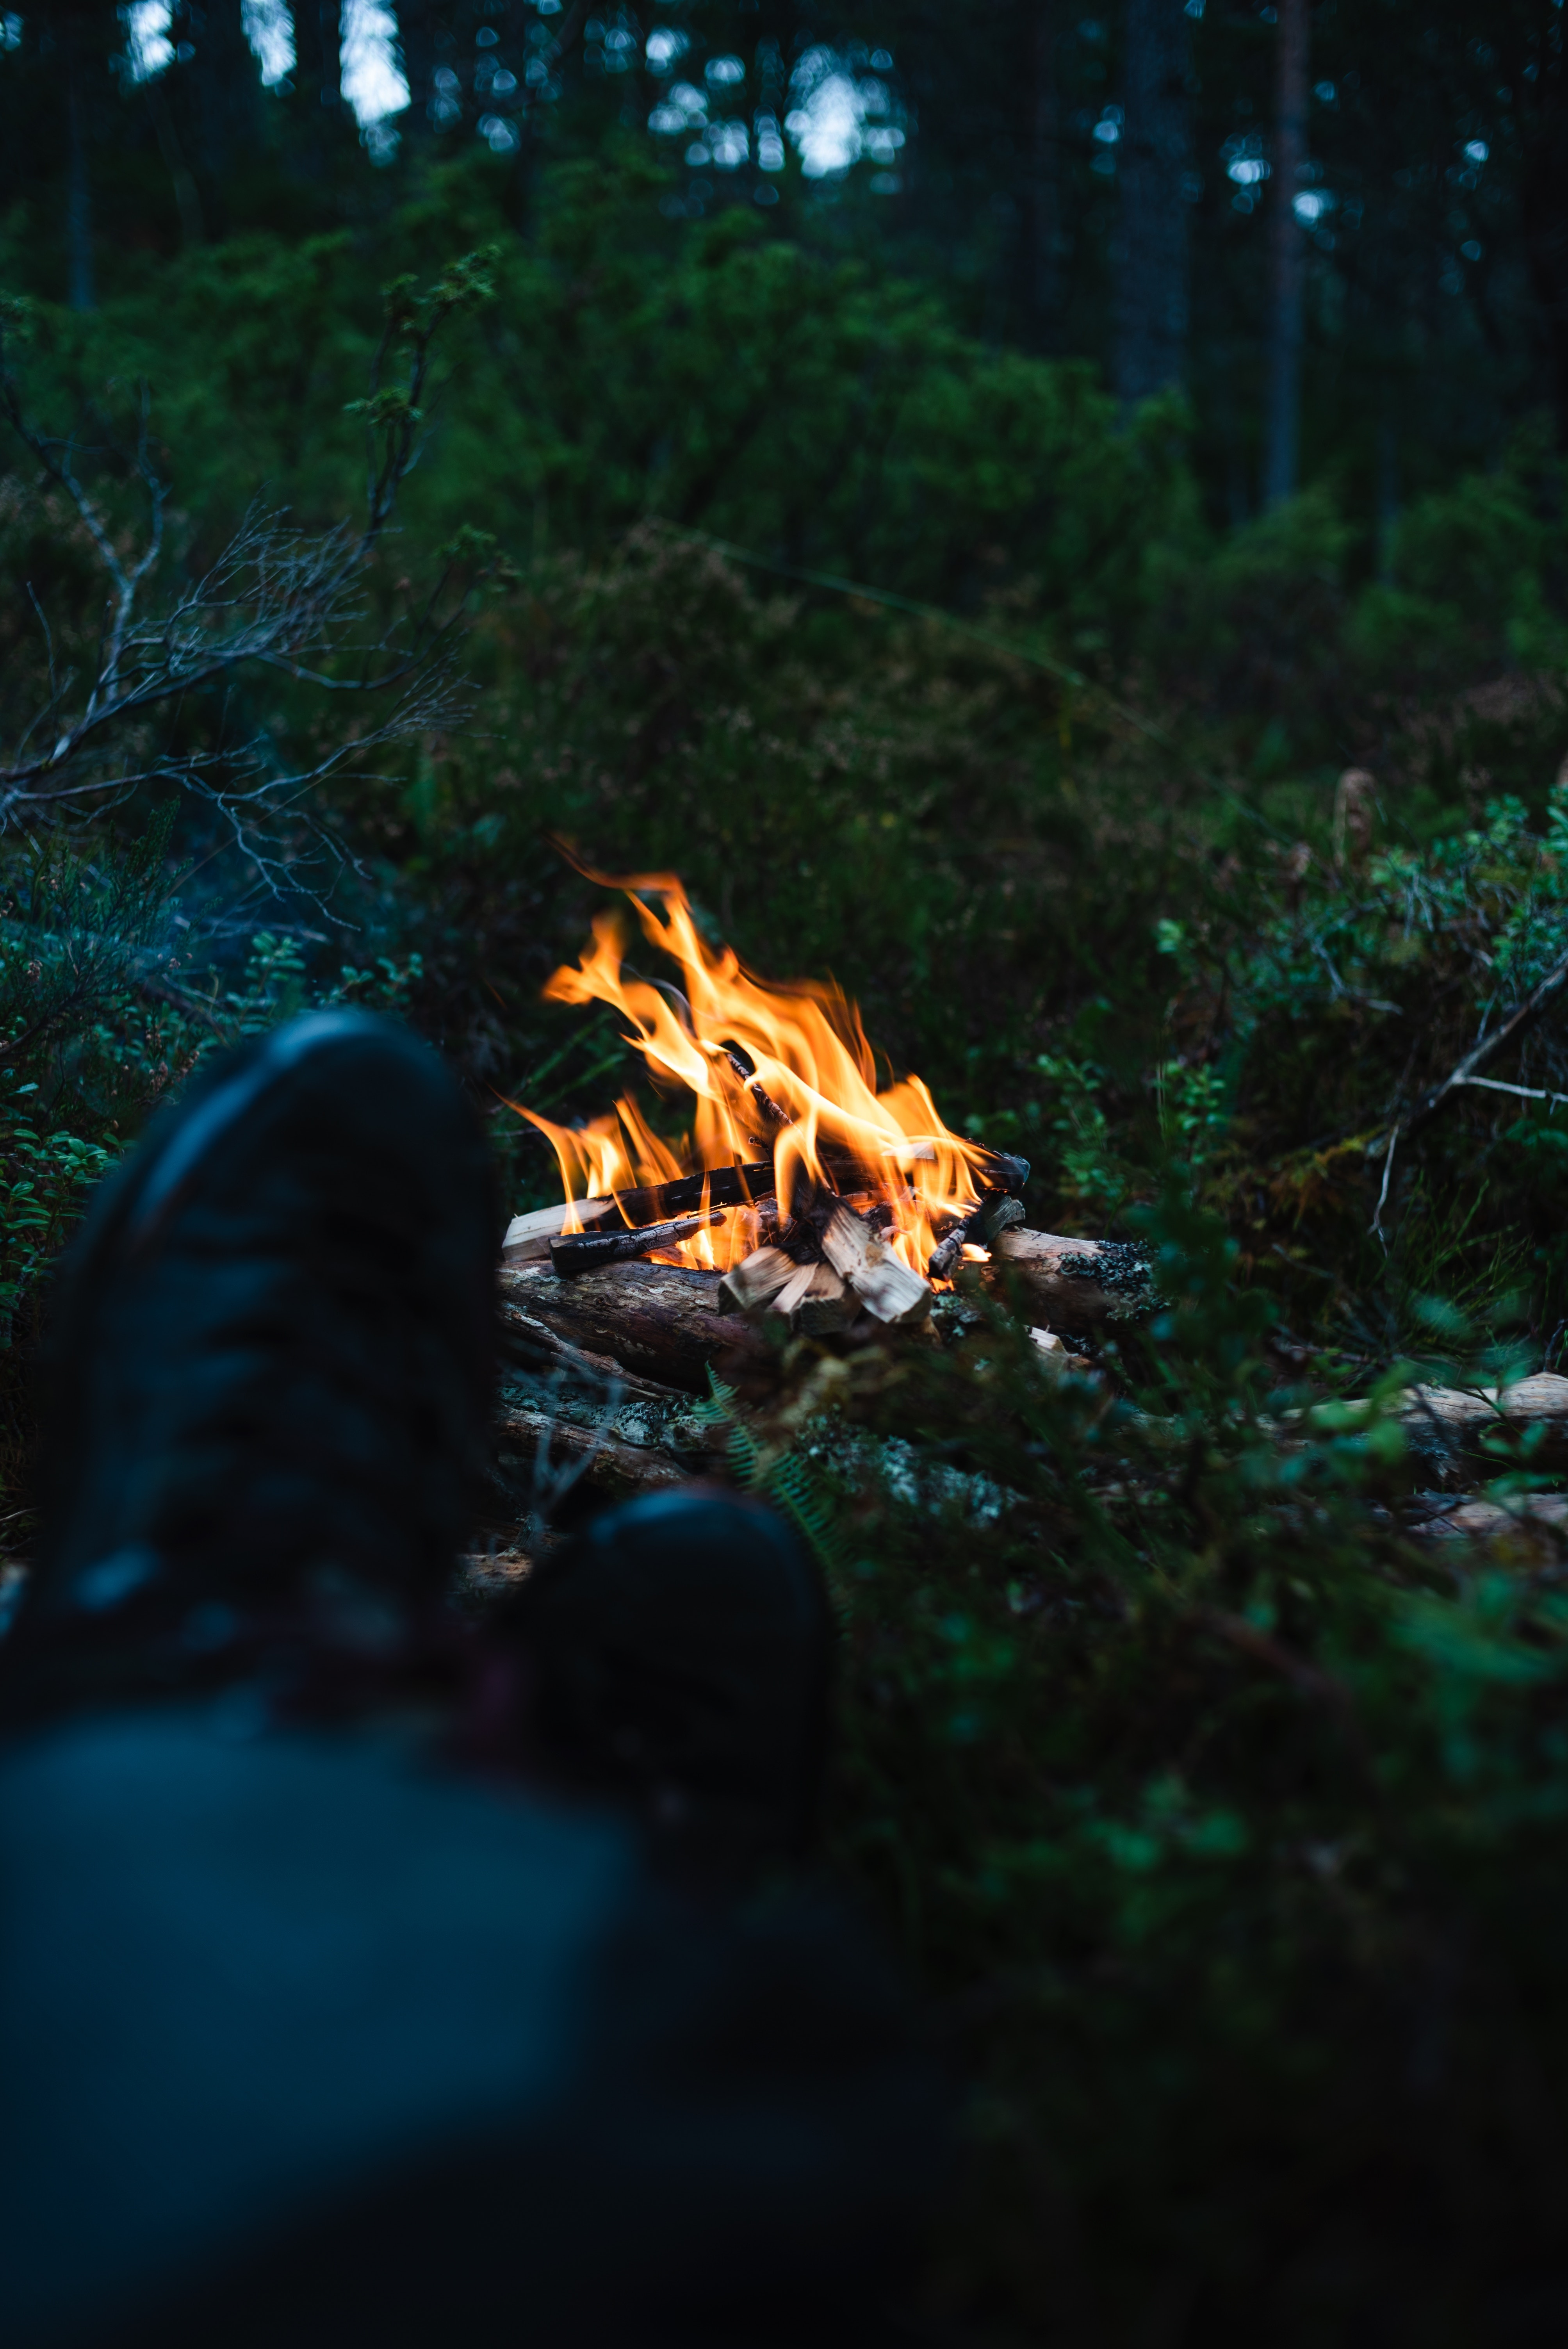fire: (518, 859, 997, 1306)
